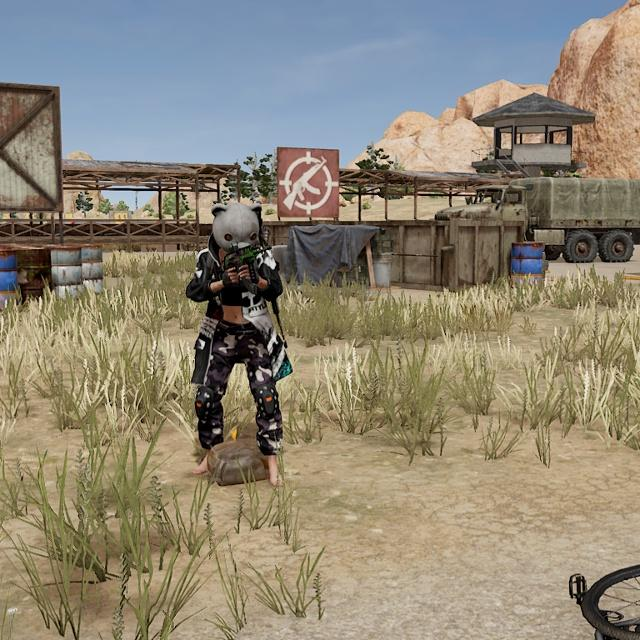head: (214, 204, 258, 253)
people: (185, 200, 288, 490)
